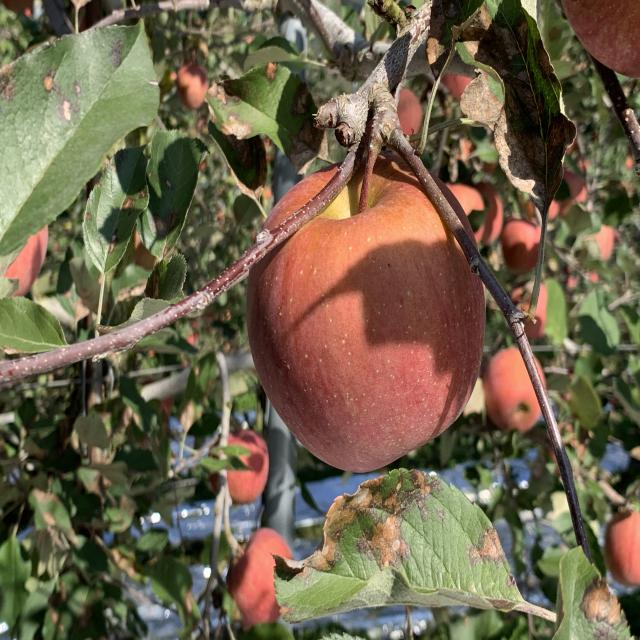fresh: (245, 156, 491, 473)
